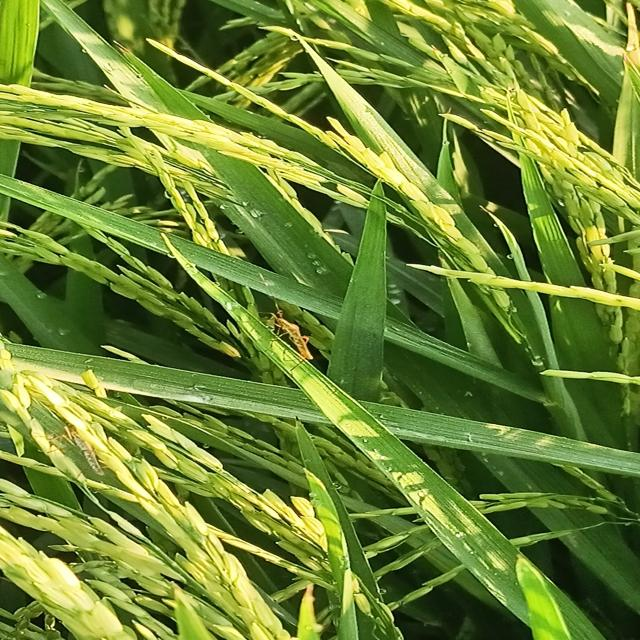green leaf hopper: (234, 268, 323, 382)
